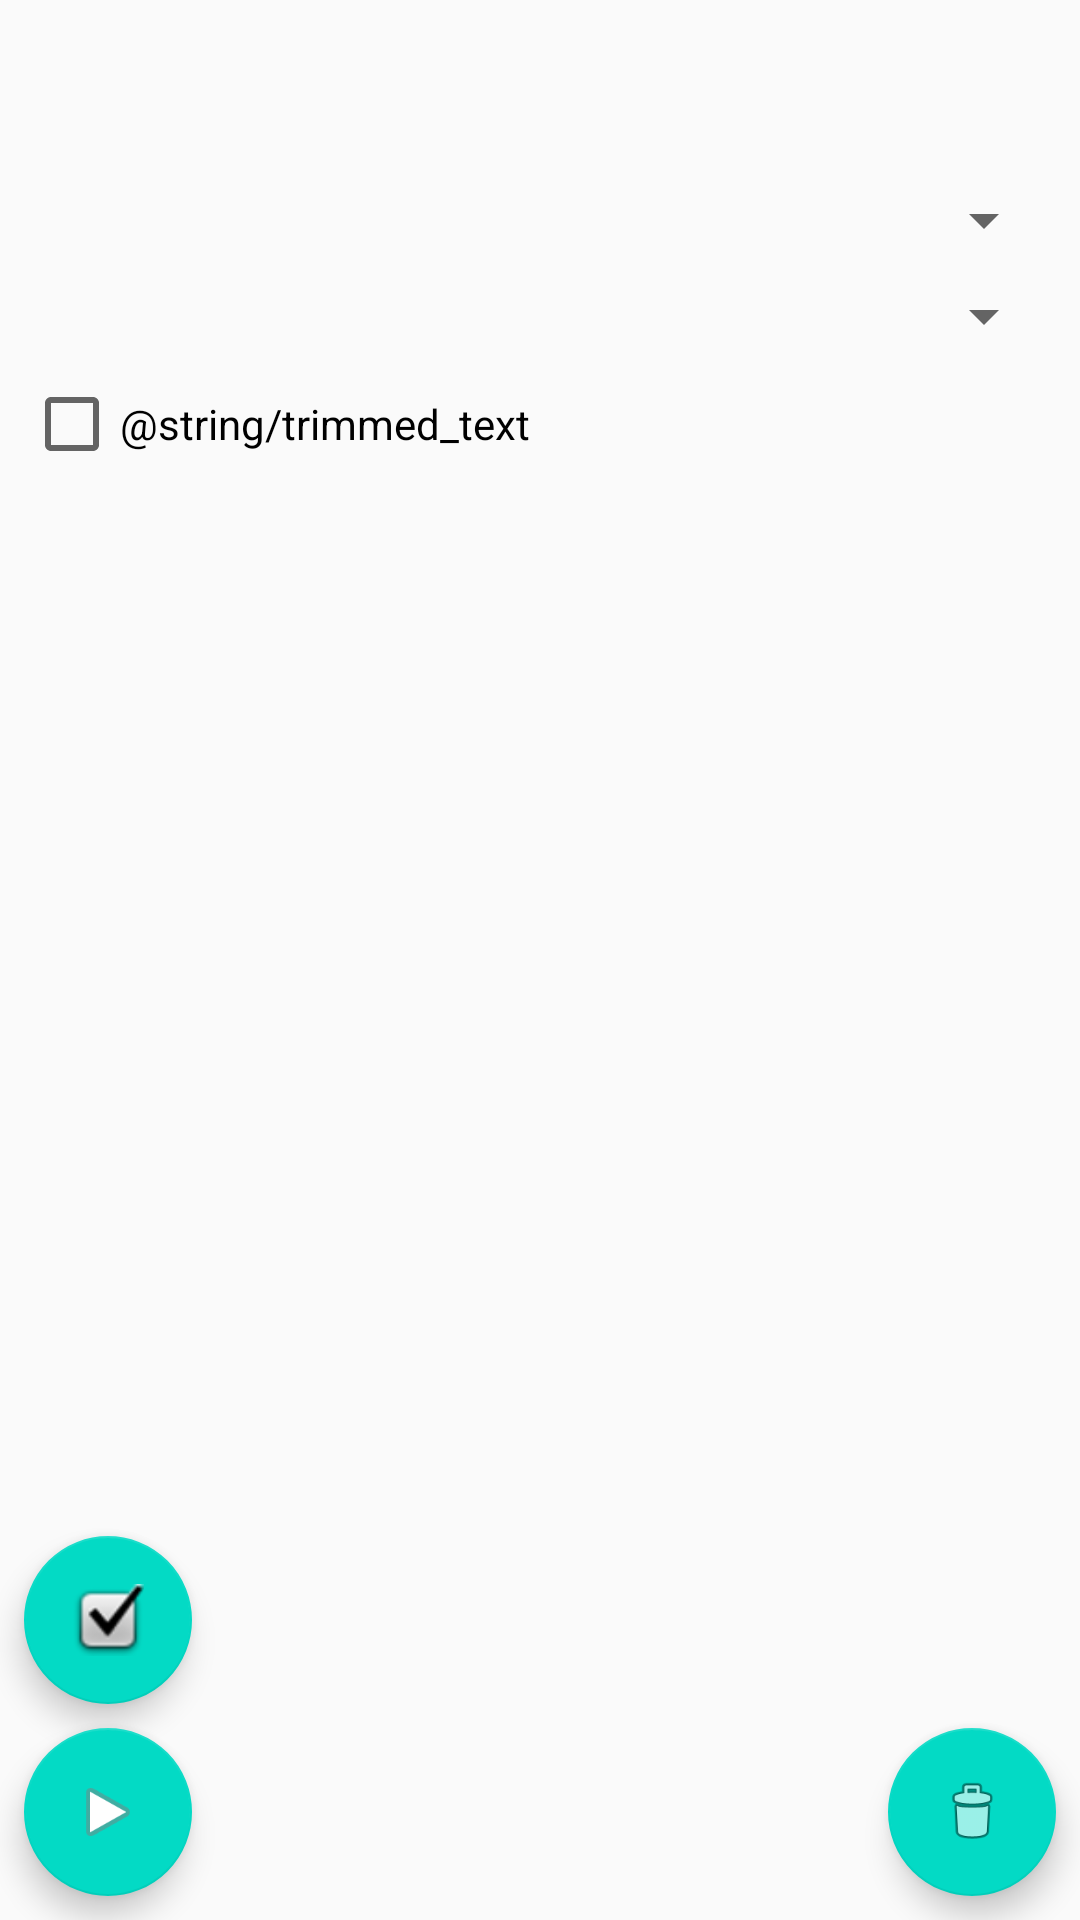

Screen size 1080px×1920px. Icon name, then its box in pixels as (x1, y1, x2, y2):
delete: (888, 1728, 1056, 1896)
play: (24, 1728, 192, 1896)
